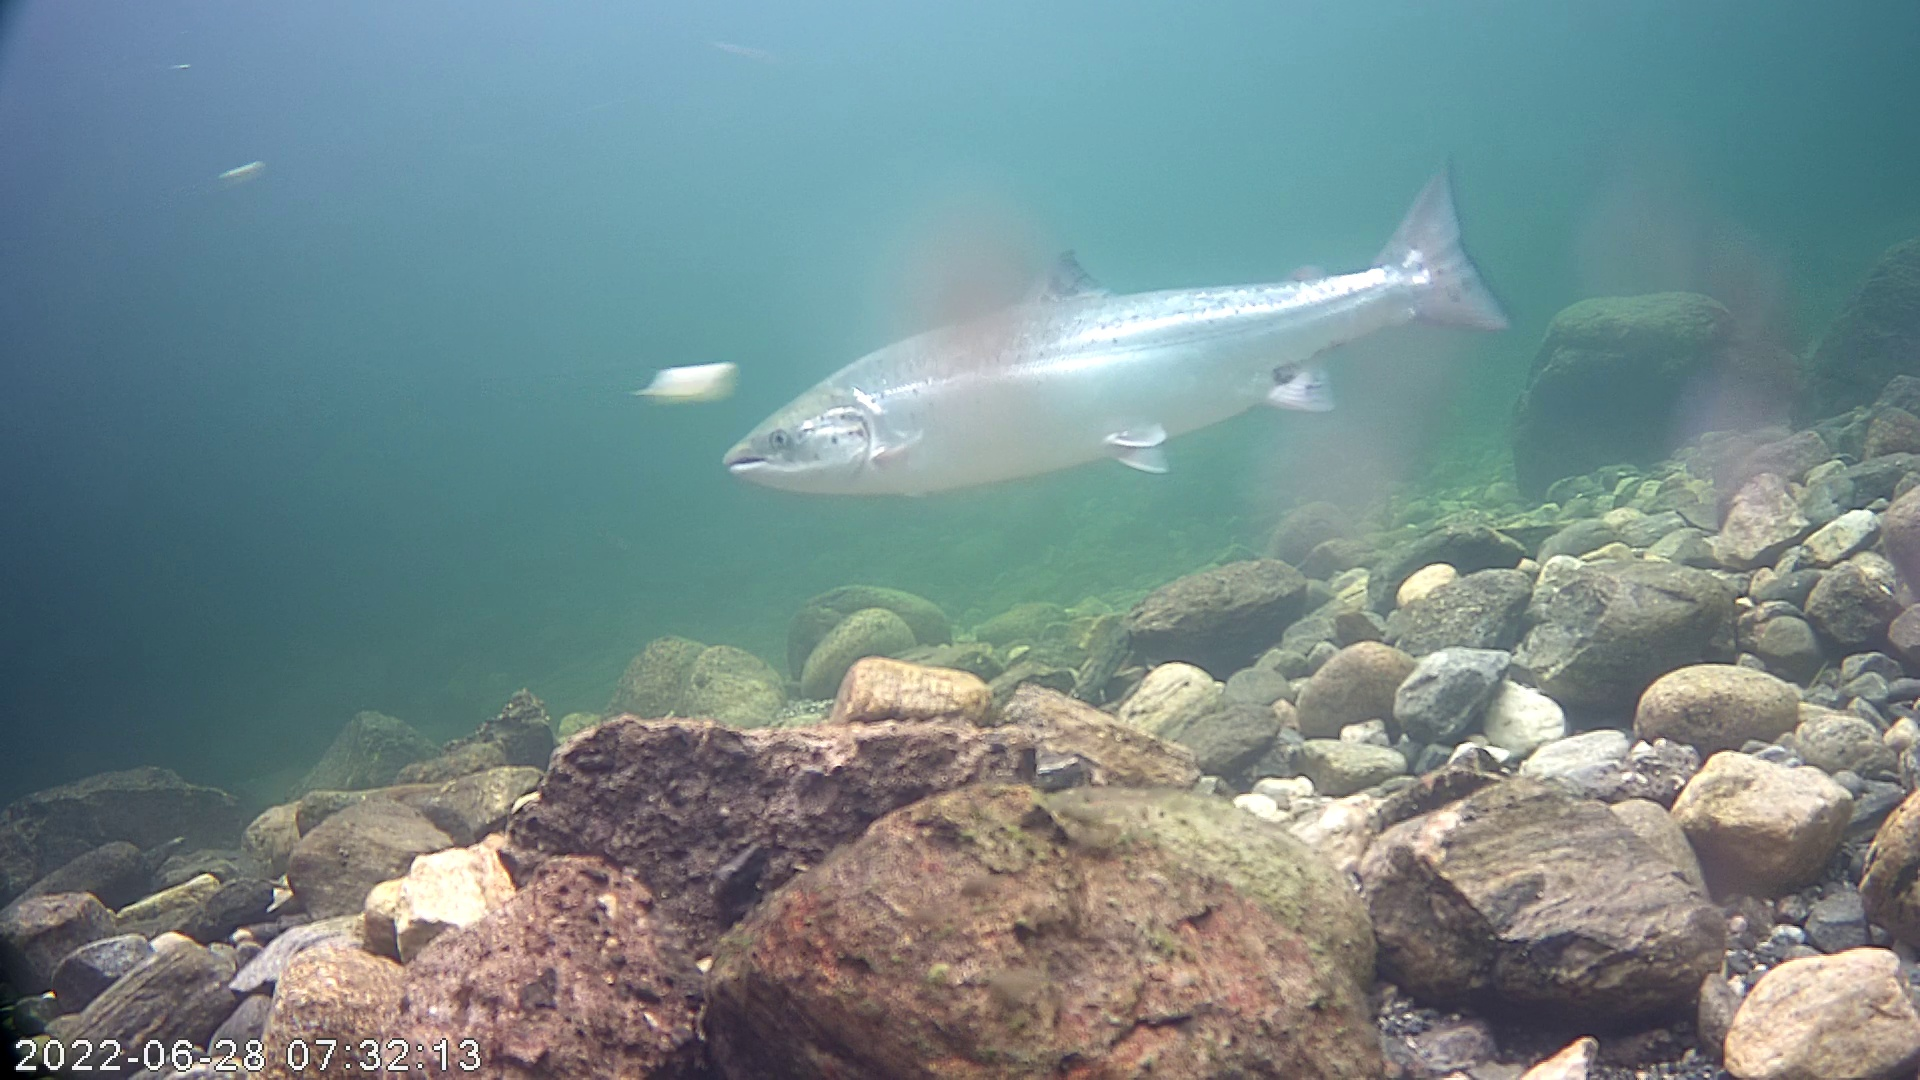salmon: (705, 123, 1549, 554)
